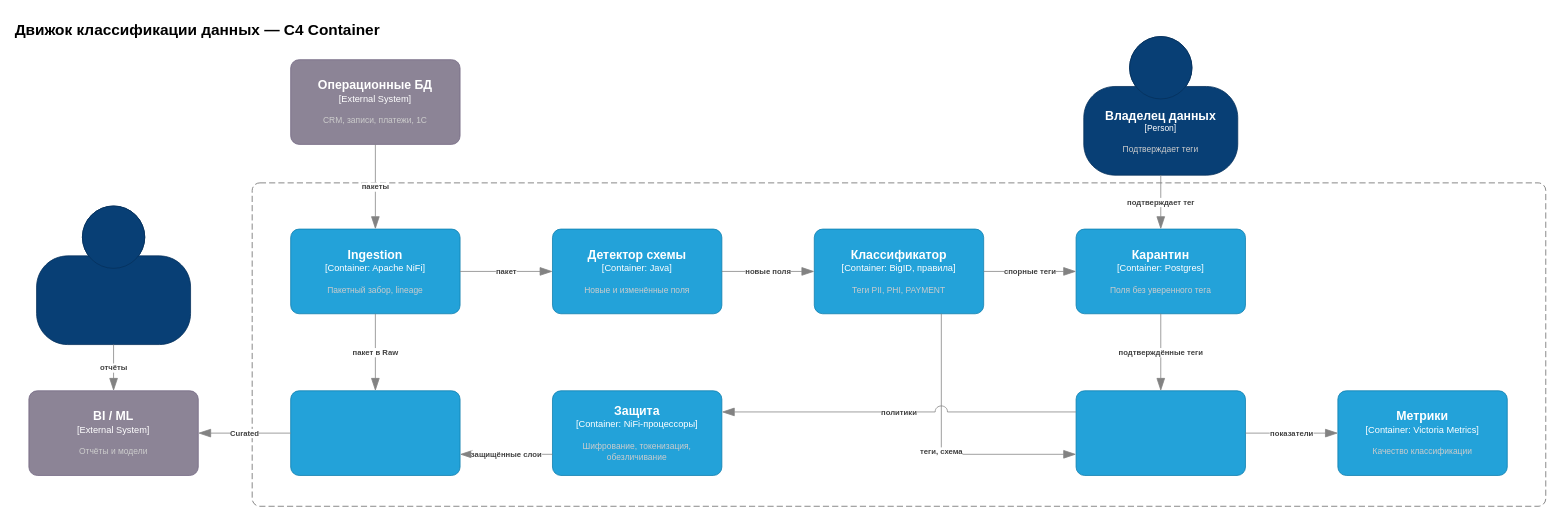
The diagram is 1559 pixels wide and 520 high, and some of its shapes have lost their labels. Here are the shapes that lost their labels. From the top down, the box of each, then its label:
(36, 205, 191, 345): Аналитик [Person] Строит отчёты
(251, 182, 1546, 506): Аналитический слой [Движок классификации и хранилище]
(290, 390, 460, 475): Data Lake [Container: S3, ClickHouse] Слои Raw, Protected, Curated
(1075, 390, 1245, 475): Каталог тегов и политик [Container: Postgres] Теги, схемы, lineage, политики
